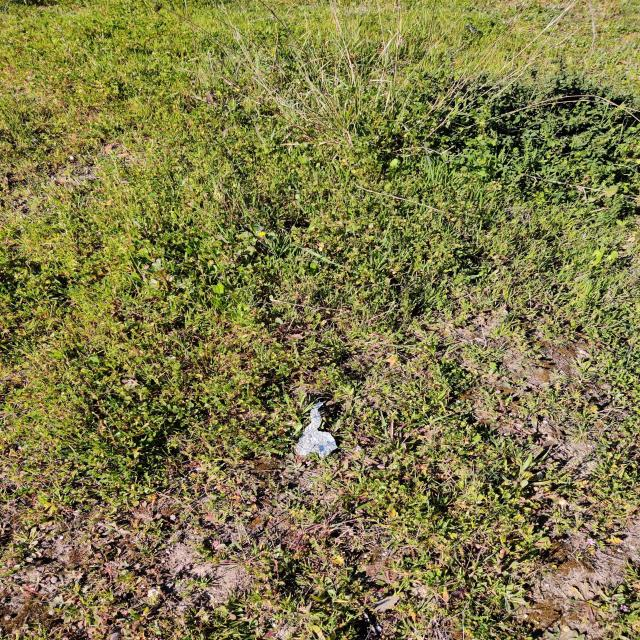litter: (289, 406, 337, 453)
